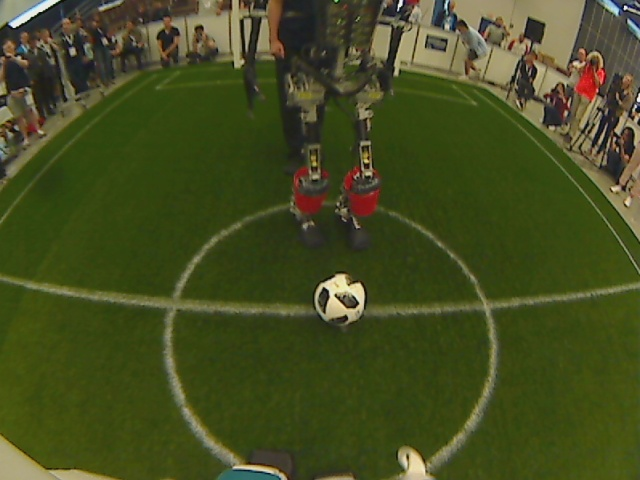ball: (310, 271, 369, 330)
